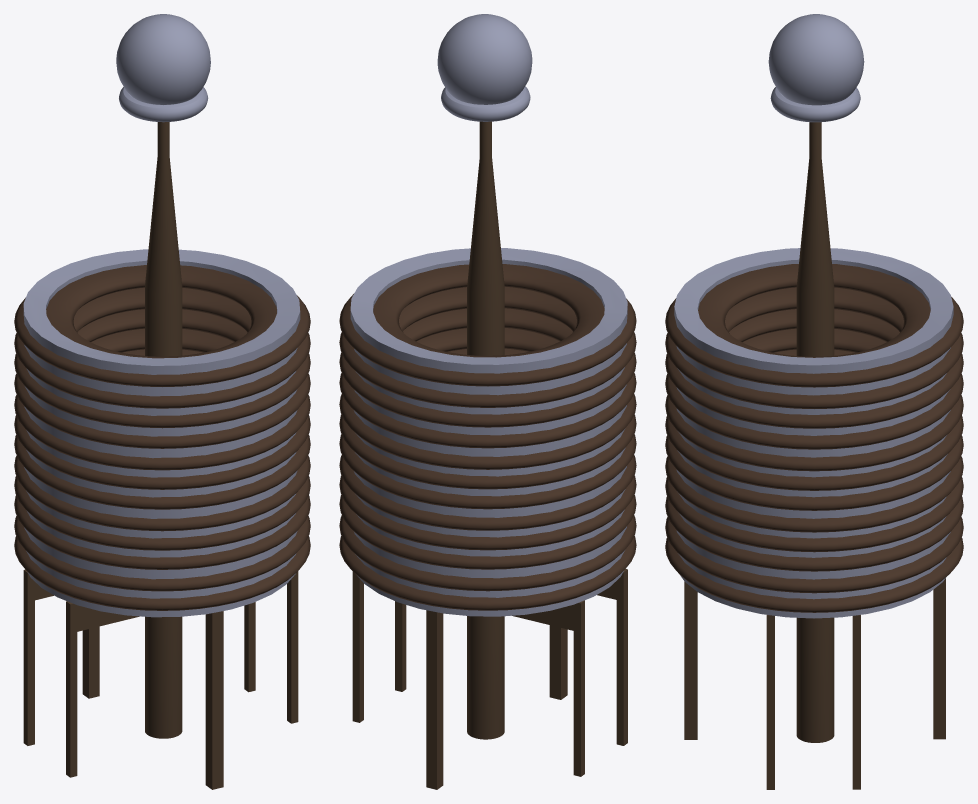
The model's file is coiltower3.fbx.
3 renders of one model, left to right at view 1: azimuth 30°, elevation 25°; view 2: azimuth 150°, elevation 25°; view 3: azimuth 270°, elevation 25°, orthographic.
Visible parts, largest first — view 1: Torus.001, Cylinder, Cylinder.001, Sphere, Cube, Cube.002, Cube.001; view 2: Torus.001, Cylinder, Cylinder.001, Sphere, Cube, Cube.001, Cube.002; view 3: Torus.001, Cylinder, Cylinder.001, Sphere, Cube, Cube.002, Cube.001.
Part boxes in pixels (x1,y1,x2,y2): Torus.001: [14, 265, 310, 610]; Cylinder: [23, 249, 300, 617]; Cylinder.001: [145, 122, 182, 738]; Sphere: [116, 14, 210, 122]; Cube: [23, 569, 298, 777]; Cube.002: [205, 611, 223, 789]; Cube.001: [82, 626, 99, 698]; Torus.001: [339, 264, 636, 610]; Cylinder: [350, 248, 627, 616]; Cylinder.001: [467, 121, 504, 739]; Sphere: [437, 14, 532, 121]; Cube: [352, 569, 627, 776]; Cube.001: [426, 610, 443, 789]; Cube.002: [549, 625, 567, 699]; Torus.001: [665, 264, 963, 612]; Cylinder: [674, 248, 953, 618]; Cylinder.001: [796, 122, 834, 742]; Sphere: [768, 14, 864, 122]; Cube: [766, 615, 860, 789]; Cube.002: [684, 581, 697, 739]; Cube.001: [933, 578, 945, 739].
Bounding box in the file's own units: 236 × 633 × 236.
